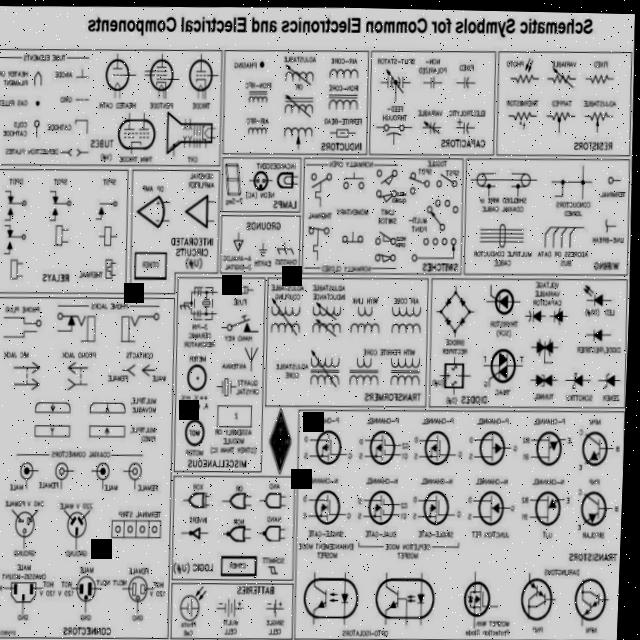capacitor: (382, 67, 410, 98), (454, 114, 483, 134), (454, 70, 478, 90), (420, 117, 442, 136), (423, 71, 442, 90)
diode: (484, 339, 522, 385), (488, 281, 528, 313), (580, 276, 614, 306), (532, 333, 561, 363), (534, 366, 566, 388), (602, 366, 629, 388), (569, 366, 596, 387), (586, 322, 616, 339), (552, 301, 573, 324), (526, 305, 549, 326), (343, 586, 357, 611), (419, 588, 433, 607), (459, 293, 472, 308), (446, 291, 457, 306), (447, 312, 456, 327), (460, 312, 470, 325), (472, 590, 479, 605)
ground: (274, 235, 302, 258), (234, 228, 251, 252), (258, 236, 272, 258)
inductor: (280, 92, 320, 116), (324, 89, 363, 112), (282, 123, 315, 150), (267, 293, 304, 317), (350, 367, 388, 390), (389, 351, 425, 375), (305, 366, 346, 387), (387, 365, 426, 387), (350, 315, 386, 338), (326, 60, 363, 82), (310, 351, 344, 374), (270, 317, 303, 340), (284, 61, 315, 85), (312, 317, 345, 338), (245, 86, 275, 108), (349, 353, 383, 372), (389, 300, 424, 317), (312, 299, 348, 315), (390, 318, 426, 334), (357, 299, 380, 317), (245, 123, 270, 137)
mosfet: (471, 423, 517, 466), (529, 423, 572, 467), (368, 480, 406, 526), (315, 423, 351, 469), (418, 485, 460, 524), (366, 423, 402, 468), (533, 485, 573, 525), (479, 479, 513, 525), (580, 482, 614, 526), (475, 571, 508, 614), (315, 484, 349, 525), (425, 422, 457, 463)
node: (560, 170, 570, 184), (579, 175, 587, 183)
resistor: (507, 53, 541, 86), (505, 103, 543, 128), (547, 107, 580, 133), (587, 105, 616, 129), (548, 63, 576, 86), (584, 64, 611, 83)
source: (181, 582, 215, 622), (217, 594, 252, 619), (267, 592, 288, 618)
switch: (412, 231, 459, 261), (425, 194, 463, 230), (307, 221, 334, 258), (309, 168, 336, 200), (408, 167, 432, 194), (342, 169, 369, 192), (437, 169, 461, 190), (345, 226, 365, 243)
transistor: (521, 568, 561, 626), (376, 567, 416, 623), (577, 571, 619, 623), (580, 422, 616, 469), (304, 572, 339, 620)
